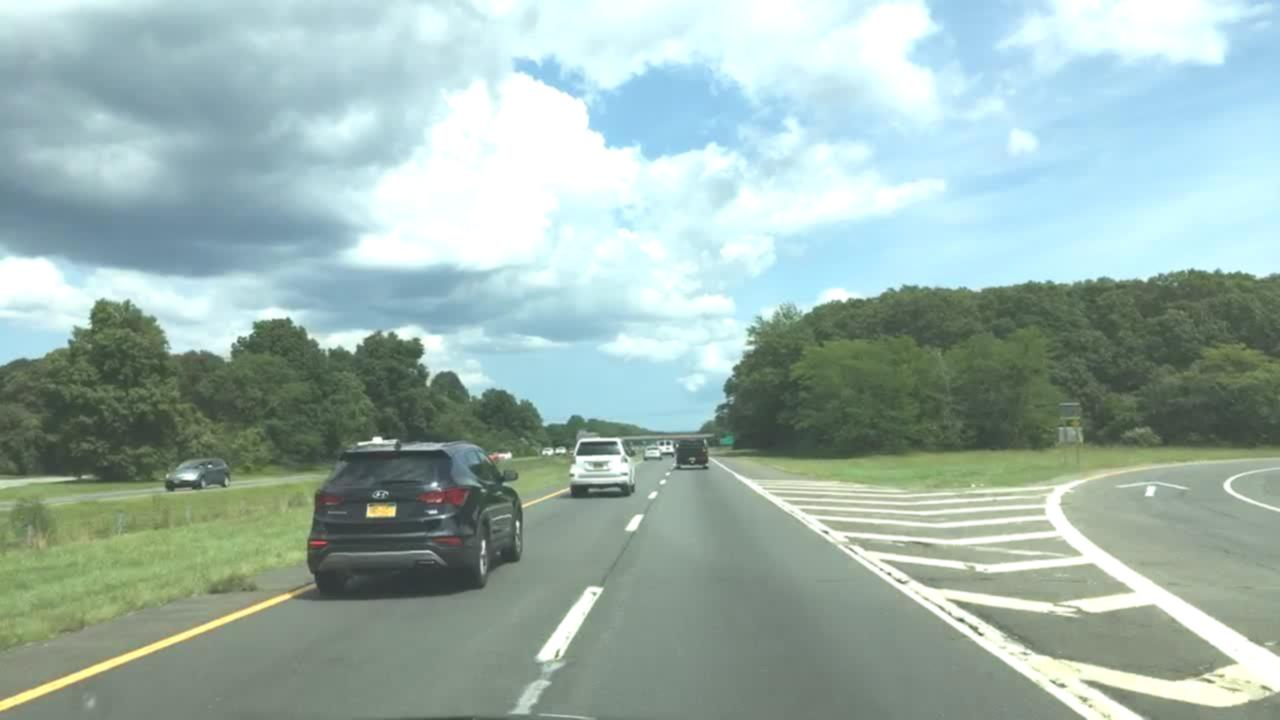Hyundai: (366, 482, 396, 503)
